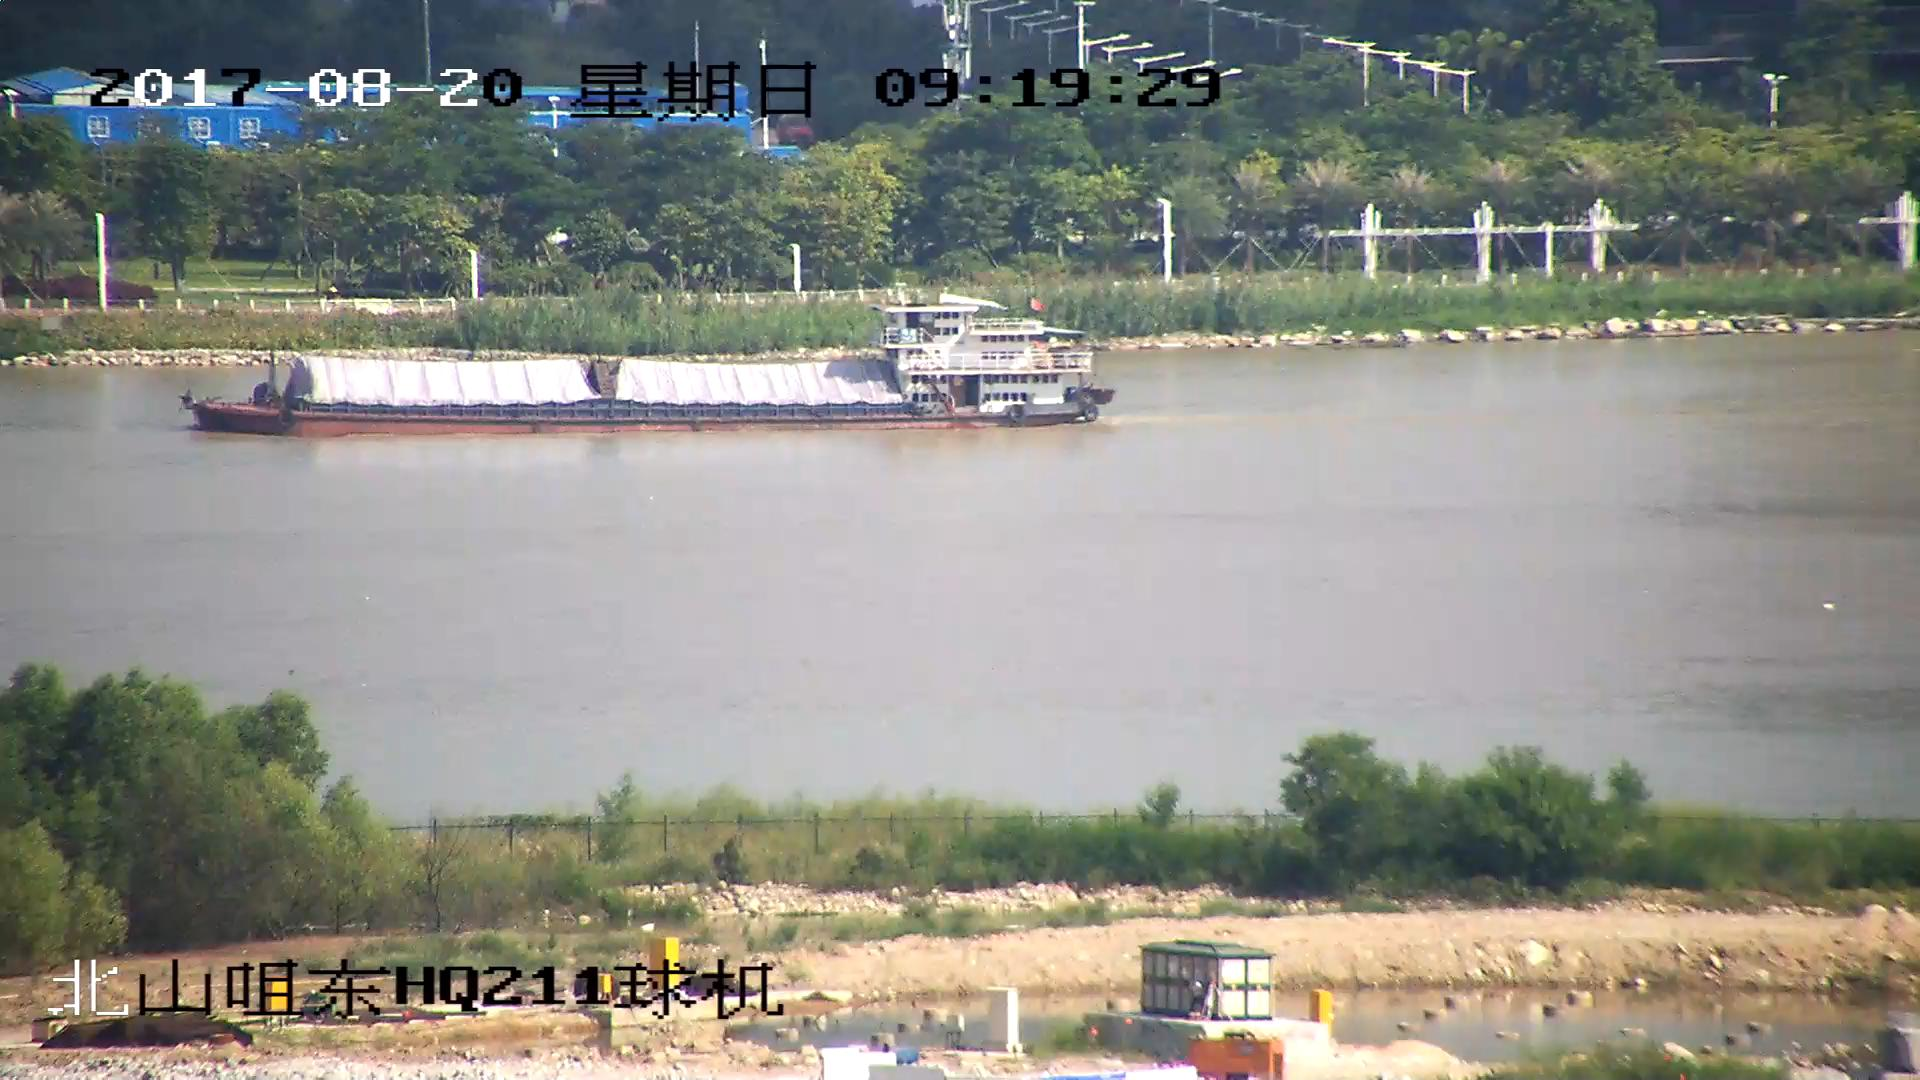general cargo ship: (181, 282, 1111, 436)
